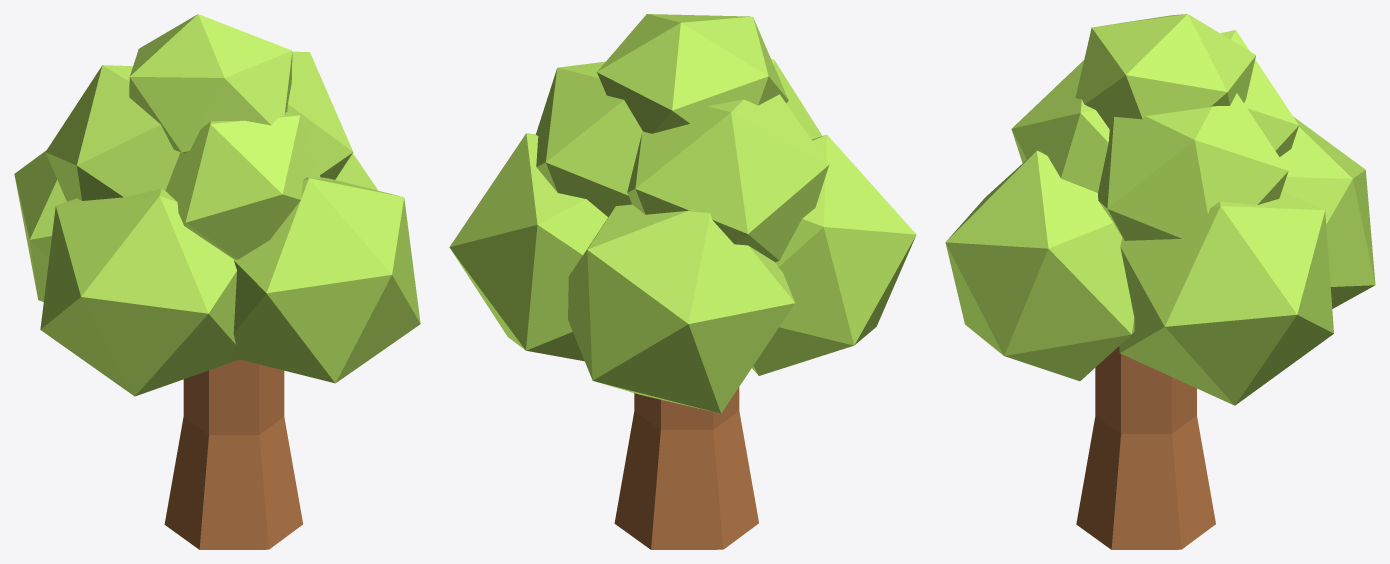
File: Tree.fbx
3 views of the same model, side by side, from view 1: azimuth 30°, elevation 25°; view 2: azimuth 150°, elevation 25°; view 3: azimuth 270°, elevation 25° (orthographic). The views are drawn at different scales.
Visible parts, largest first — view 1: Tree; view 2: Tree; view 3: Tree.
Boxes of the visible parts, <box> form: Tree: <box>14,14,420,549</box>; Tree: <box>449,14,916,549</box>; Tree: <box>945,14,1375,549</box>.
Bounding box in the file's own units: 3.22 × 4.4 × 3.41.
